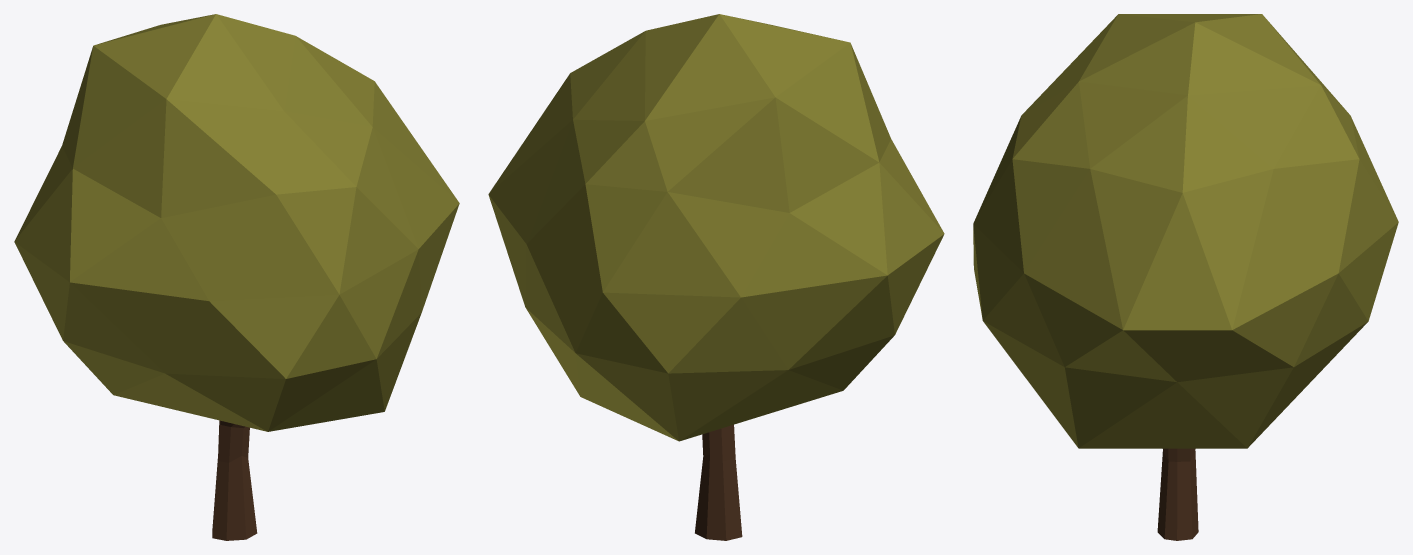
File: Tree_58_Yellow.fbx
3 renders of one model, left to right at view 1: azimuth 30°, elevation 25°; view 2: azimuth 150°, elevation 25°; view 3: azimuth 270°, elevation 25°, orthographic. The views are drawn at different scales.
Parts seen in each view (by area): view 1: Tree_58_Yellow_Part_1, Tree_58_Yellow_Part_2; view 2: Tree_58_Yellow_Part_1, Tree_58_Yellow_Part_2; view 3: Tree_58_Yellow_Part_1, Tree_58_Yellow_Part_2.
Boxes of the visible parts, x1=… form: Tree_58_Yellow_Part_1: x1=14, y1=14, x2=459, y2=431; Tree_58_Yellow_Part_2: x1=212, y1=420, x2=257, y2=540; Tree_58_Yellow_Part_1: x1=488, y1=14, x2=944, y2=441; Tree_58_Yellow_Part_2: x1=695, y1=424, x2=742, y2=540; Tree_58_Yellow_Part_1: x1=973, y1=14, x2=1398, y2=448; Tree_58_Yellow_Part_2: x1=1157, y1=448, x2=1198, y2=540.
Bounding box in the file's own units: 627 × 791 × 604.
